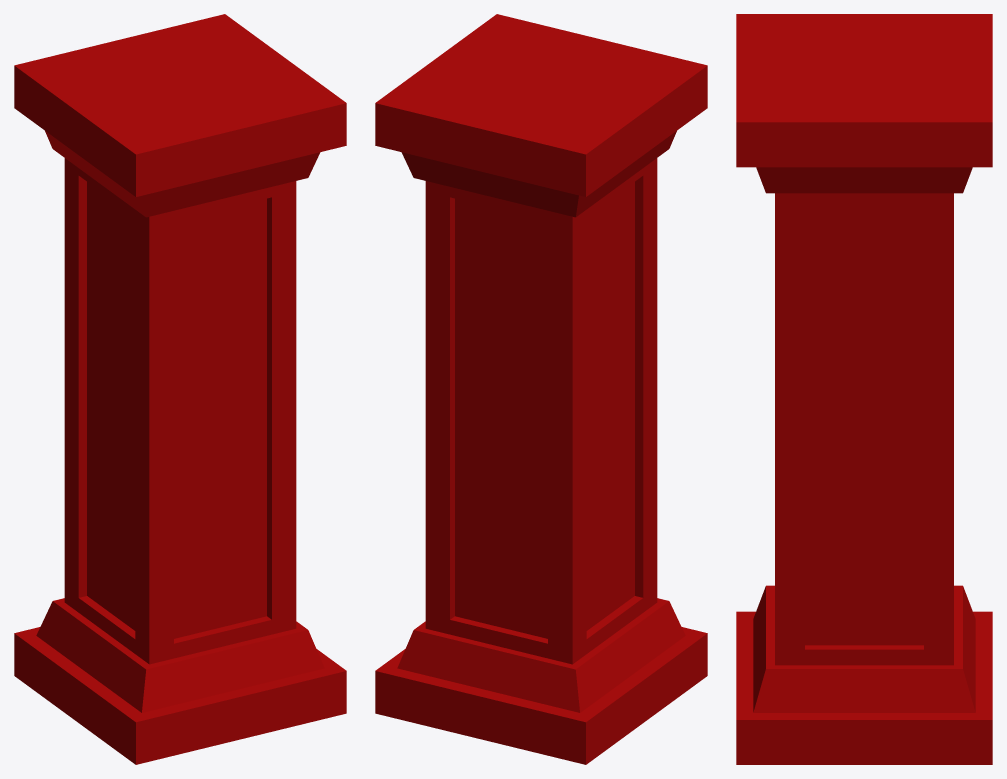
Rendered from Pillar2.obj.
3 views of the same model, side by side, from view 1: azimuth 30°, elevation 25°; view 2: azimuth 150°, elevation 25°; view 3: azimuth 270°, elevation 25° (orthographic). The views are drawn at different scales.
Visible parts, largest first — view 1: pCube28; view 2: pCube28; view 3: pCube28.
Boxes of the visible parts, x1,y1,x2,y2 form: pCube28: (14, 14, 346, 764); pCube28: (375, 14, 707, 764); pCube28: (736, 14, 992, 764).
Size of the model in its own units: 1 by 2.77 by 1.
